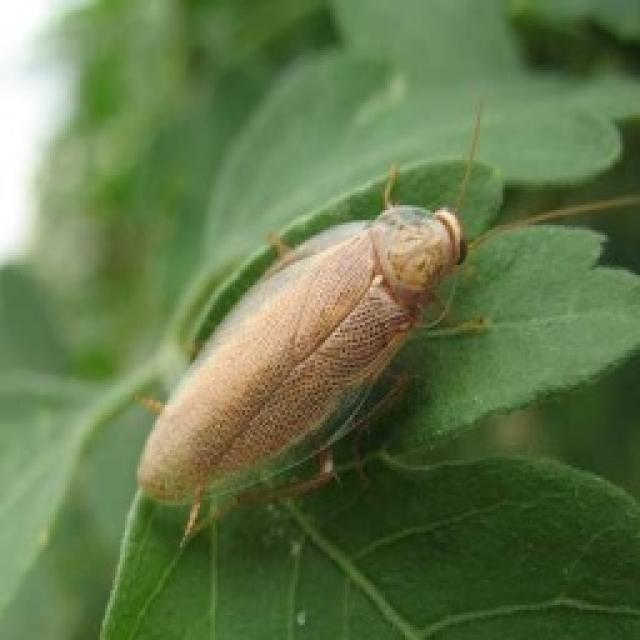cockroach: (117, 117, 530, 539)
